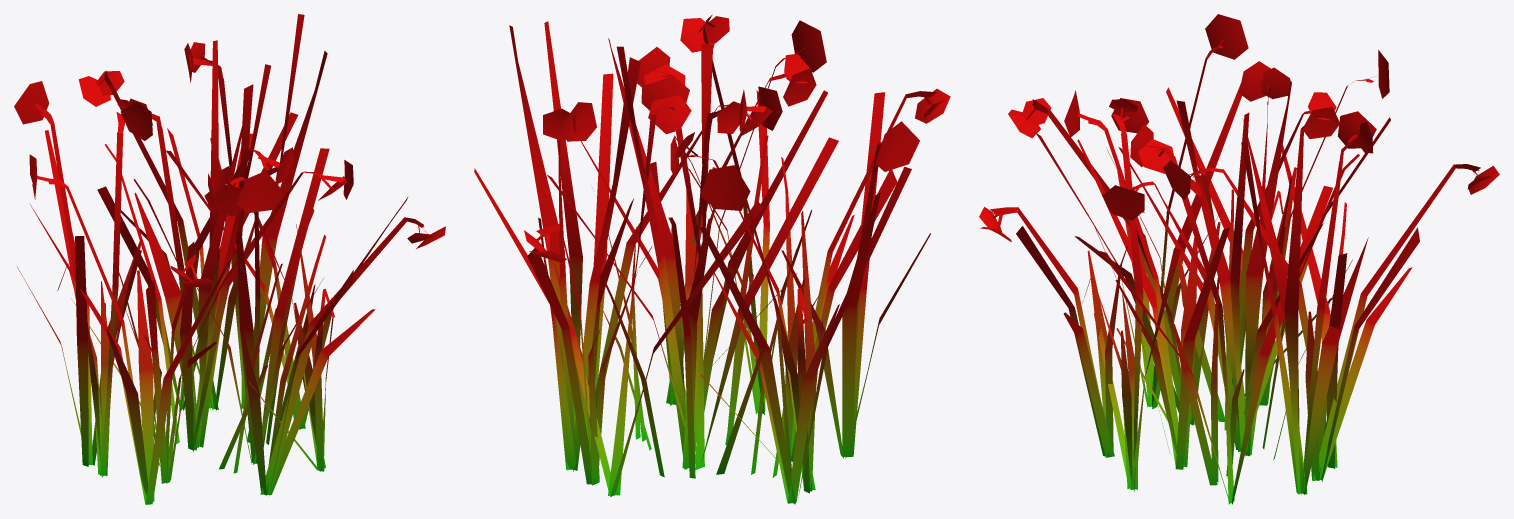
The model's file is Rush Daffodil_LOD6_Var10_wftgfjaia.fbx.
3 renders of one model, left to right at view 1: azimuth 30°, elevation 25°; view 2: azimuth 150°, elevation 25°; view 3: azimuth 270°, elevation 25°, orthographic. The views are drawn at different scales.
Parts seen in each view (by area): view 1: _slwl_var10_LOD6; view 2: _slwl_var10_LOD6; view 3: _slwl_var10_LOD6.
Boxes of the visible parts, bbox=[...] form: _slwl_var10_LOD6: bbox=[14, 14, 445, 504]; _slwl_var10_LOD6: bbox=[474, 14, 950, 504]; _slwl_var10_LOD6: bbox=[979, 14, 1499, 504].
Size of the model in its own units: 36 by 39.66 by 47.49.
